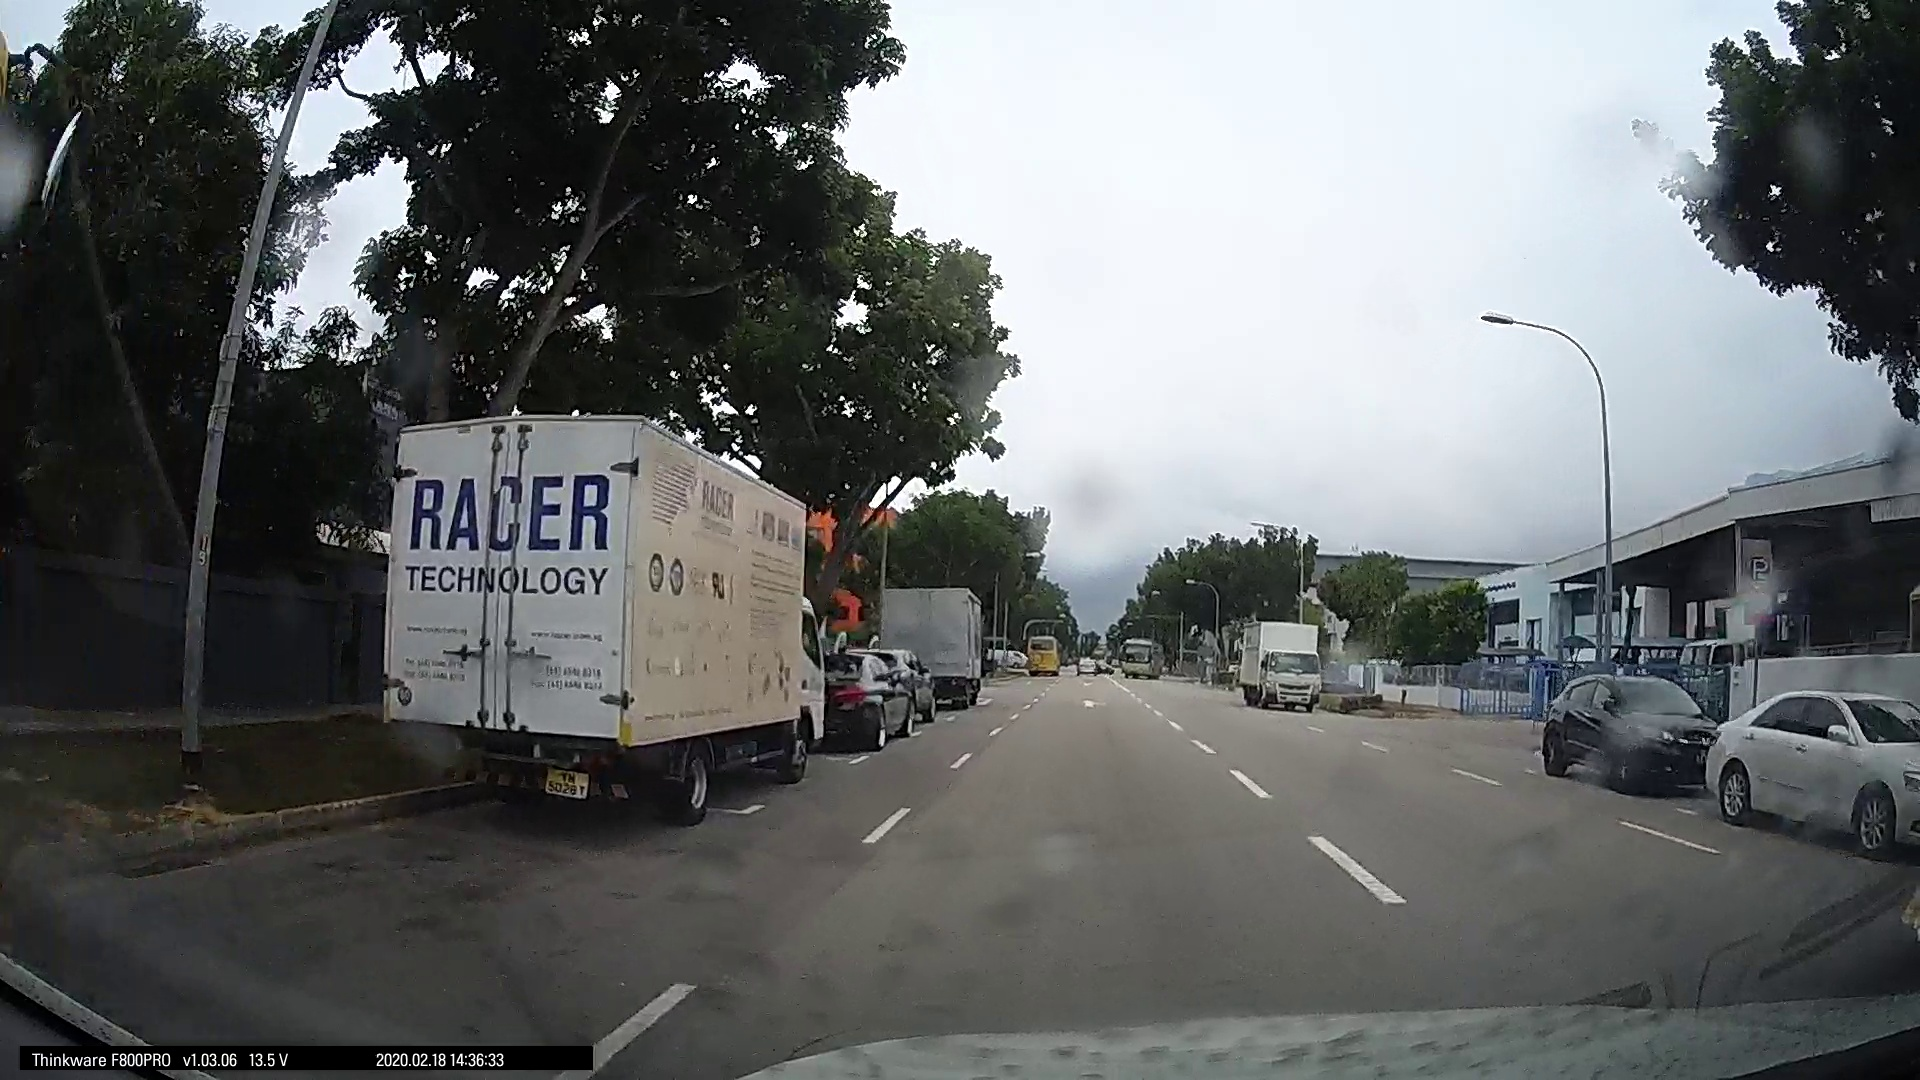Heavy Vehicle: (378, 410, 825, 828), (857, 574, 986, 717), (1234, 622, 1323, 711)
Light Vehicle: (1698, 679, 1917, 845), (1538, 665, 1718, 794), (819, 641, 913, 748)
